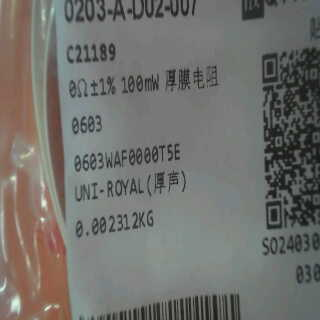0R: (66, 71, 119, 135)
